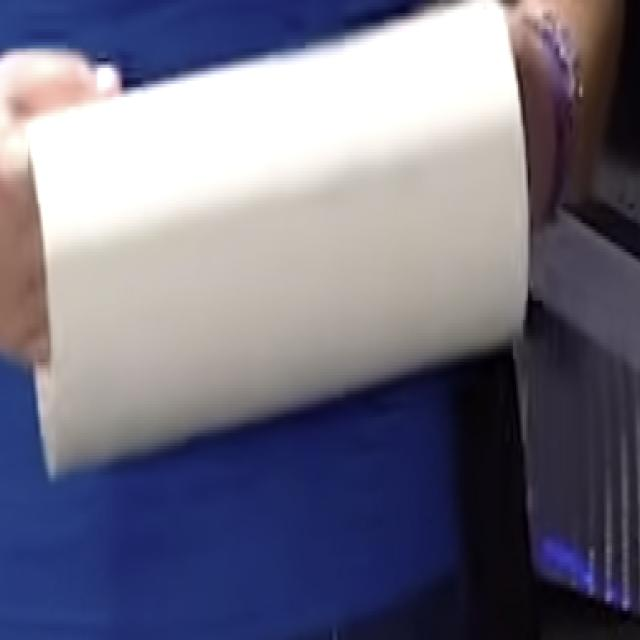Coral: (25, 0, 529, 478)
